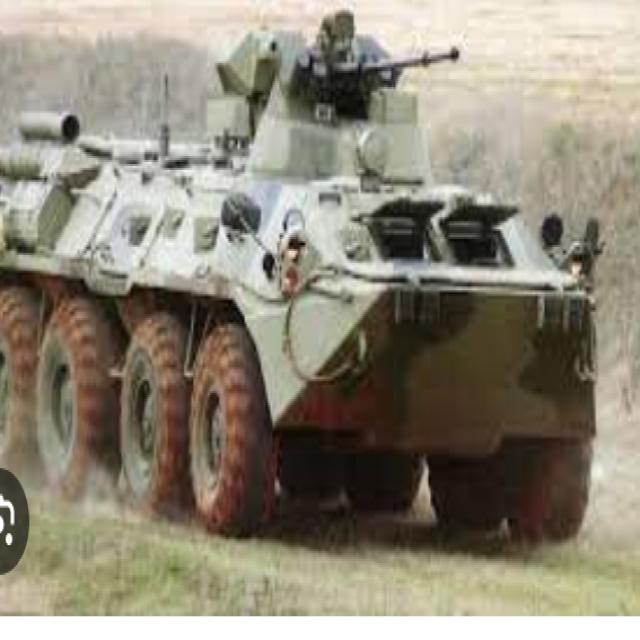MIL_APC: (2, 18, 619, 556)
